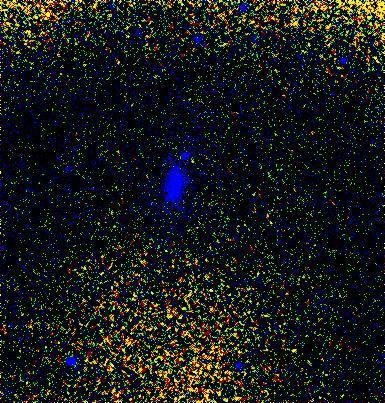star: (280, 327, 310, 357)
